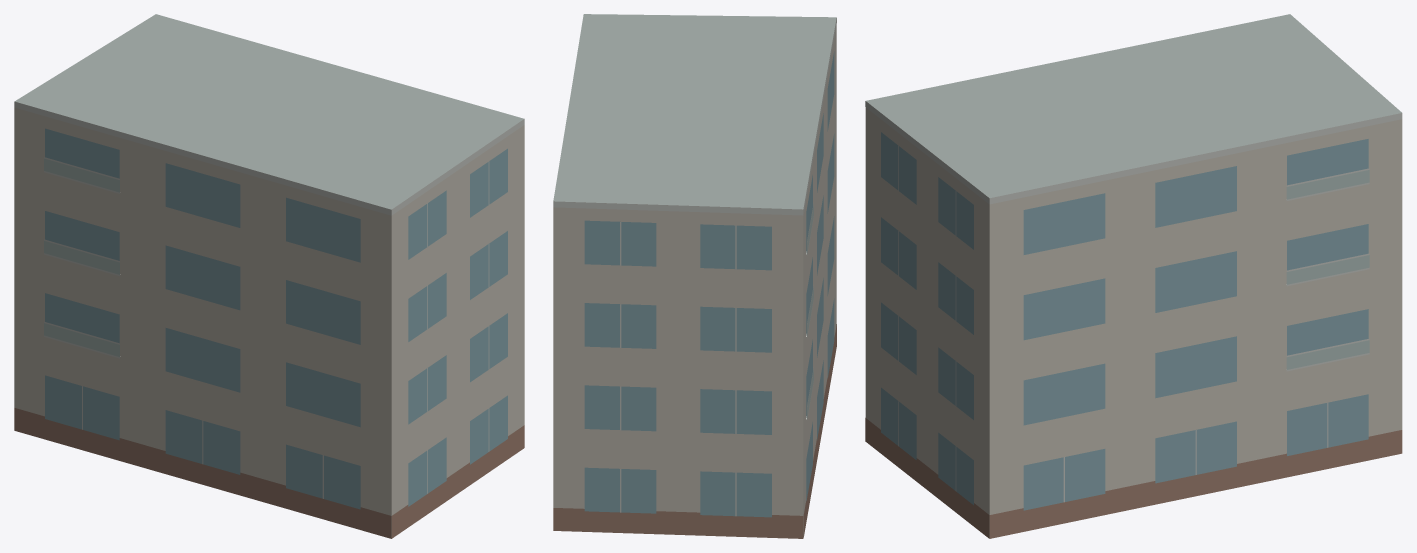
File: survey-upis-32806616.glb
3 views of the same model, side by side, from view 1: azimuth 30°, elevation 25°; view 2: azimuth 150°, elevation 25°; view 3: azimuth 270°, elevation 25° (orthographic). The views are drawn at different scales.
Visible parts, largest first — view 1: survey-upis-32806616.tmp; view 2: survey-upis-32806616.tmp; view 3: survey-upis-32806616.tmp.
Boxes of the visible parts, left/top/right/bottom form: survey-upis-32806616.tmp: left=14, top=14, right=524, bottom=538; survey-upis-32806616.tmp: left=553, top=14, right=836, bottom=538; survey-upis-32806616.tmp: left=865, top=14, right=1402, bottom=538.
Size of the model in its own units: 15.5 by 13.35 by 19.08.
